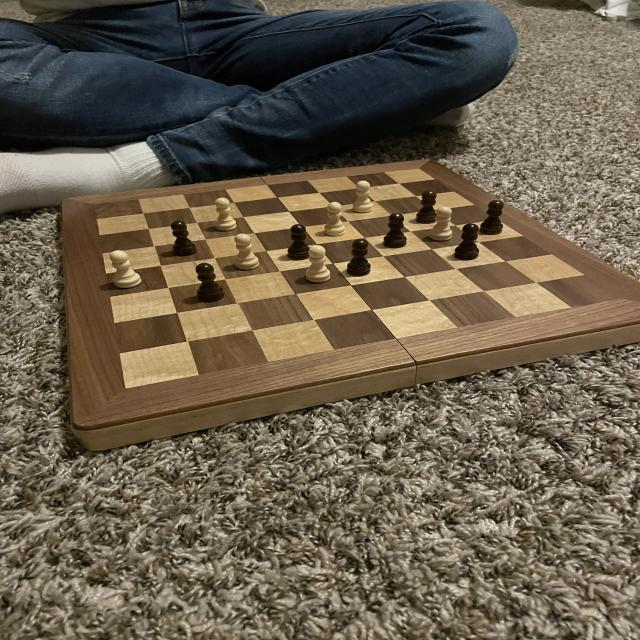black-knight: (188, 260, 230, 306), (342, 234, 376, 279), (448, 221, 482, 263), (377, 211, 411, 251), (167, 218, 200, 259), (283, 221, 315, 263), (478, 197, 508, 236), (416, 188, 442, 226)
white-knight: (107, 248, 146, 291), (424, 204, 460, 244), (303, 244, 336, 286), (232, 230, 262, 273), (208, 194, 239, 234), (347, 179, 381, 215), (322, 199, 348, 238)
